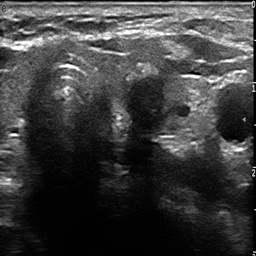mass: (124, 70, 164, 132)
